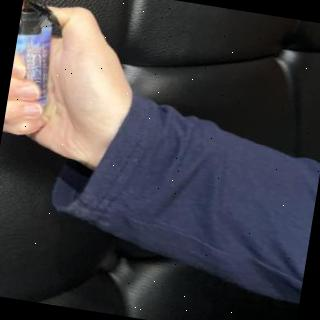fire: (21, 0, 26, 12)
